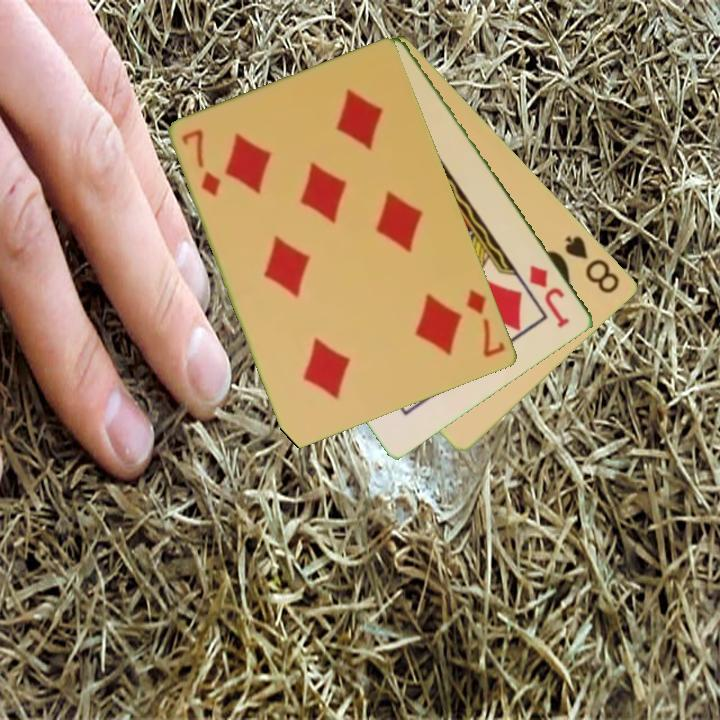7d: (178, 125, 225, 200), (463, 285, 509, 361)
8s: (561, 232, 624, 297)
Jd: (526, 262, 573, 332)
